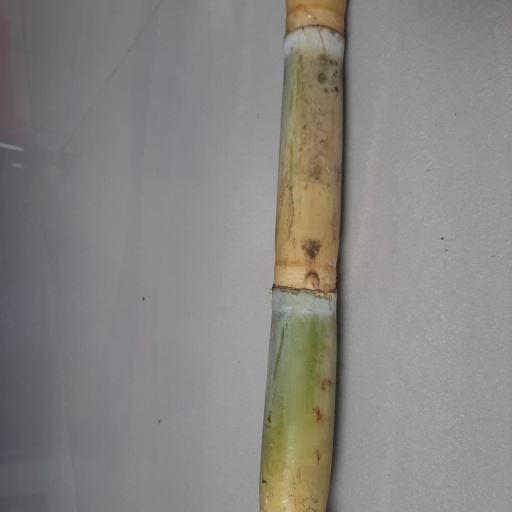Bud: (301, 272, 320, 291)
